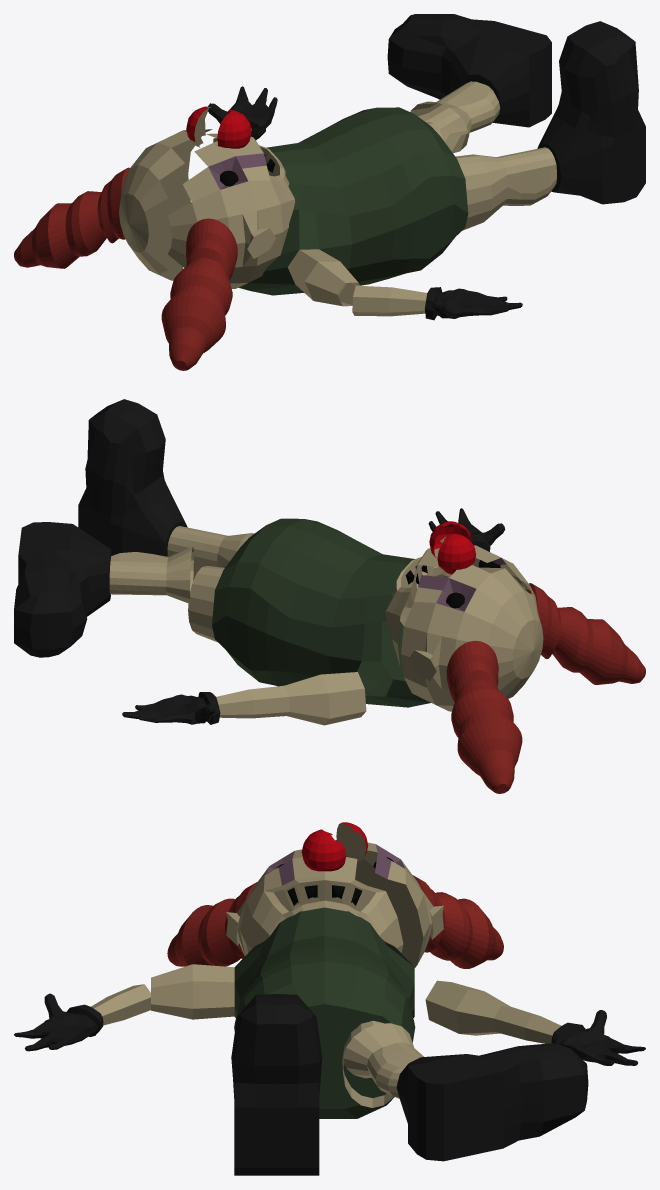
Rendered from ClownCeset.fbx.
3 renders of one model, top to bottom at view 1: azimuth 30°, elevation 25°; view 2: azimuth 150°, elevation 25°; view 3: azimuth 270°, elevation 25°, orthographic. The views are drawn at different scales.
Parts seen in each view (by area): view 1: Kafa, KopanBacak, KopanKafa, KopanYarimKol, KopanKol; view 2: Kafa, KopanKafa, KopanBacak, KopanKol, KopanYarimKol; view 3: Kafa, KopanBacak, KopanKafa, KopanKol, KopanYarimKol.
Boxes of the visible parts, x1,y1,x2,y2 form: Kafa: [161, 21, 645, 370]; KopanBacak: [387, 14, 551, 153]; KopanKafa: [14, 106, 212, 280]; KopanYarimKol: [352, 285, 522, 320]; KopanKol: [208, 86, 277, 139]; Kafa: [78, 399, 645, 707]; KopanKafa: [401, 533, 543, 793]; KopanBacak: [14, 522, 193, 657]; KopanKol: [122, 672, 366, 725]; KopanYarimKol: [428, 508, 505, 551]; Kafa: [151, 829, 415, 1175]; KopanBacak: [343, 1023, 588, 1161]; KopanKafa: [335, 822, 503, 968]; KopanKol: [425, 980, 645, 1065]; KopanYarimKol: [14, 984, 150, 1051].
Size of the model in its own units: 410 by 158 by 410.
